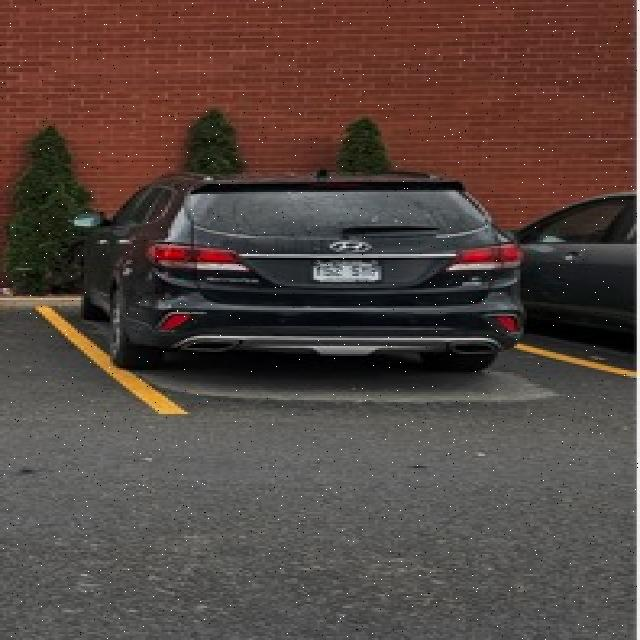plaque: (314, 260, 381, 281)
